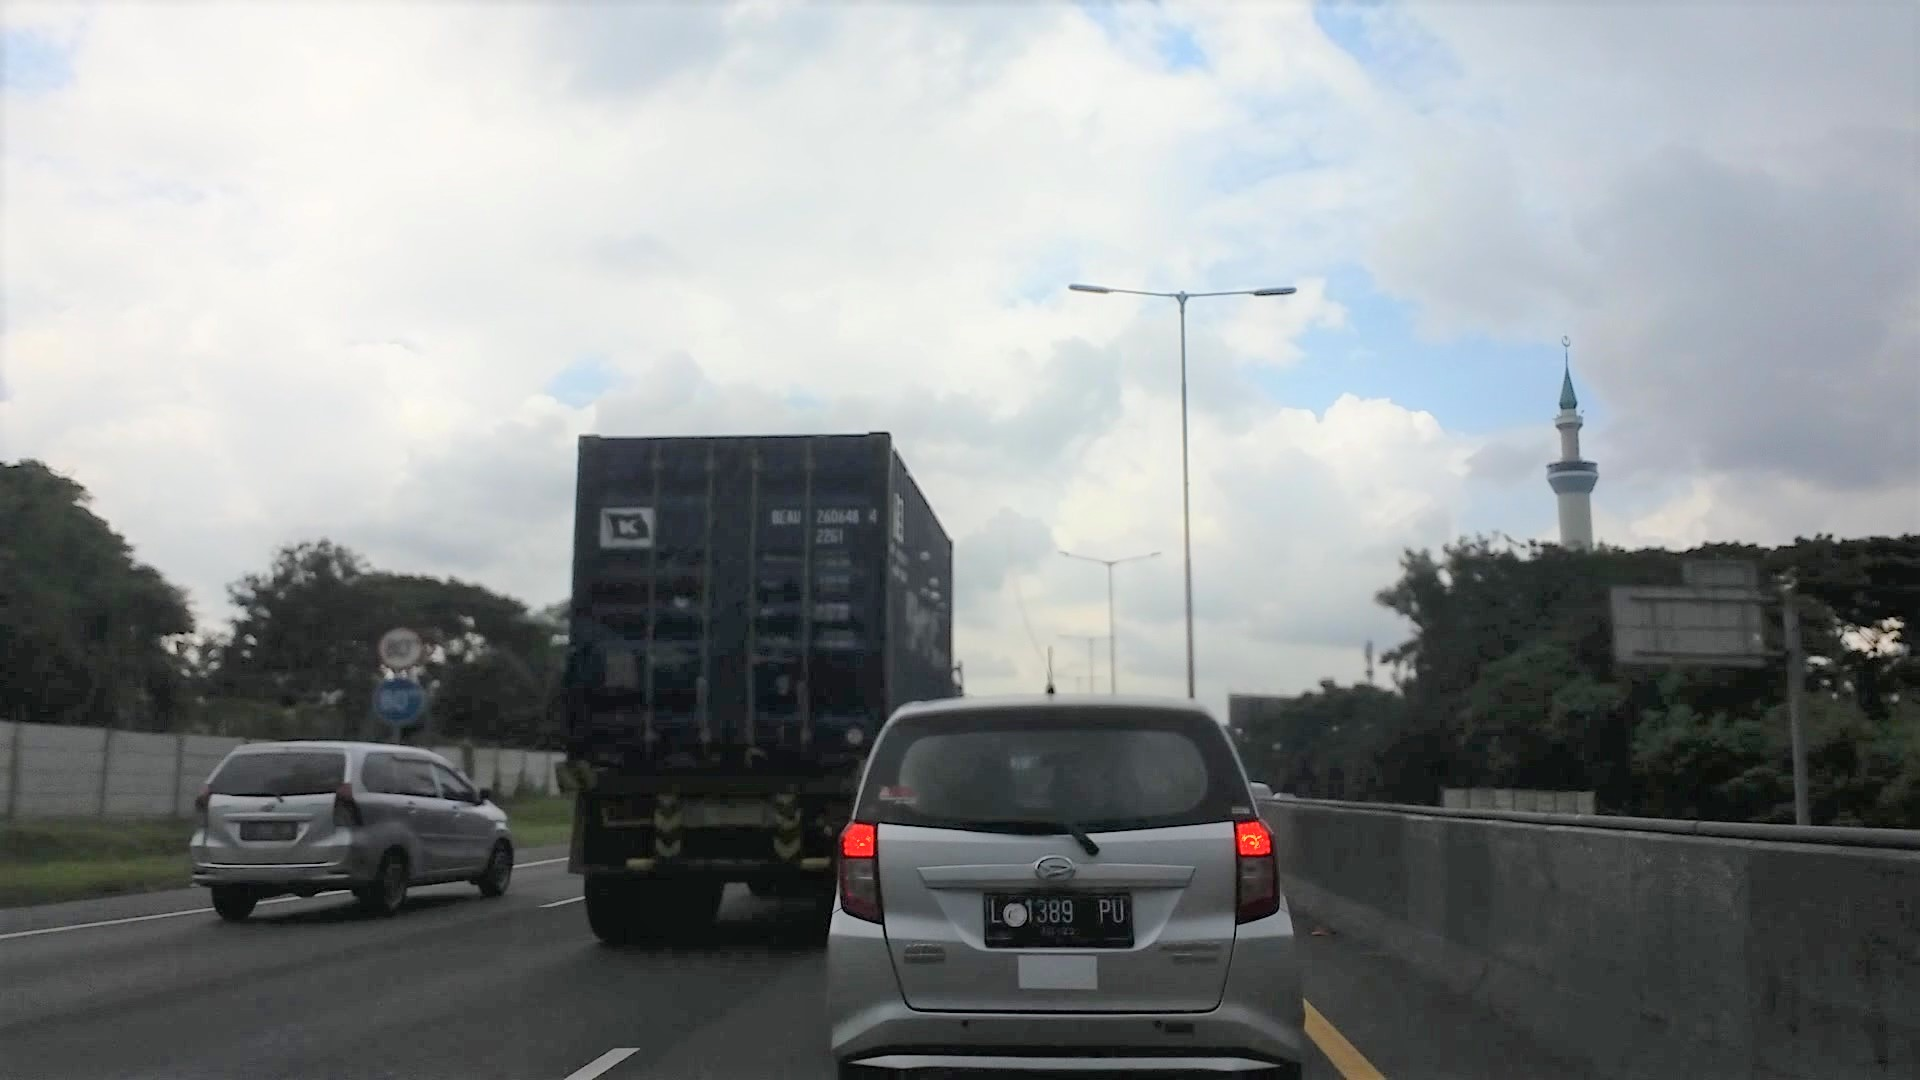plate_positive: (985, 891, 1135, 948)
